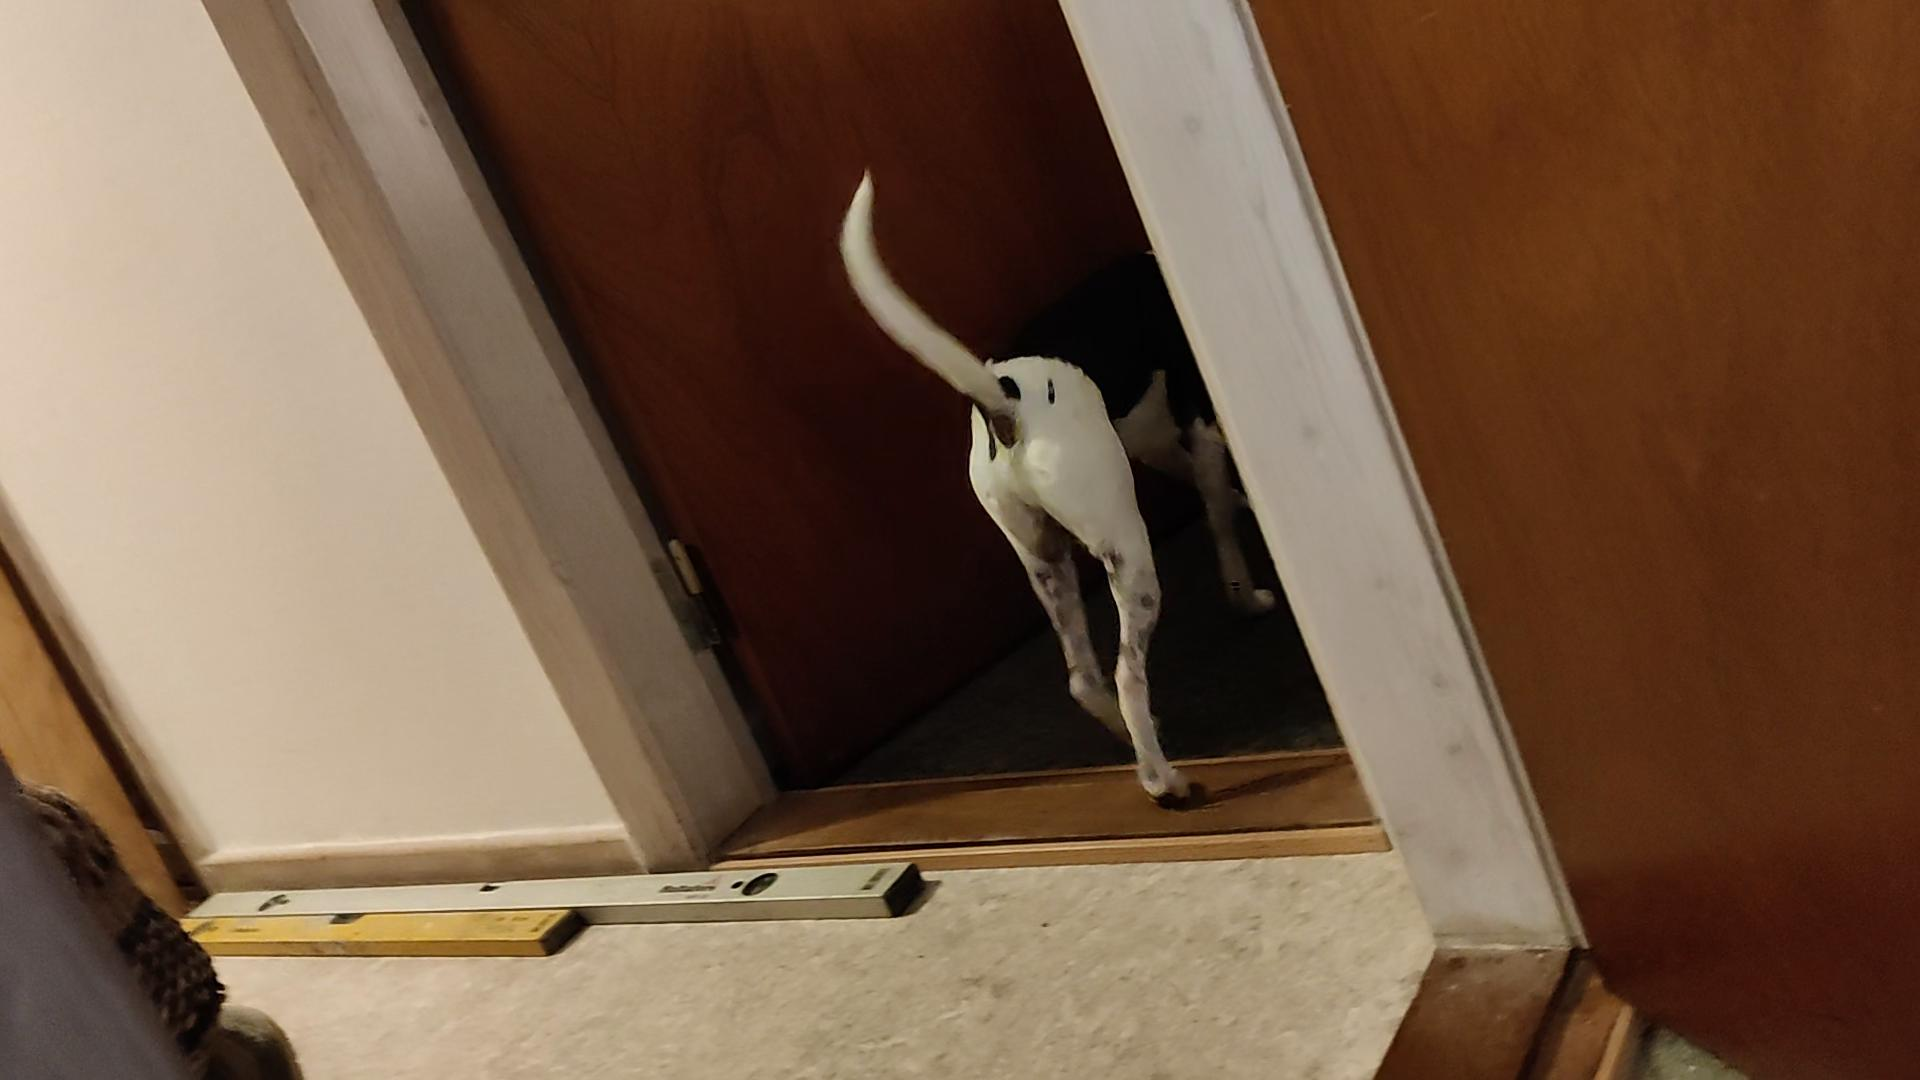Dog: (822, 145, 1283, 814)
